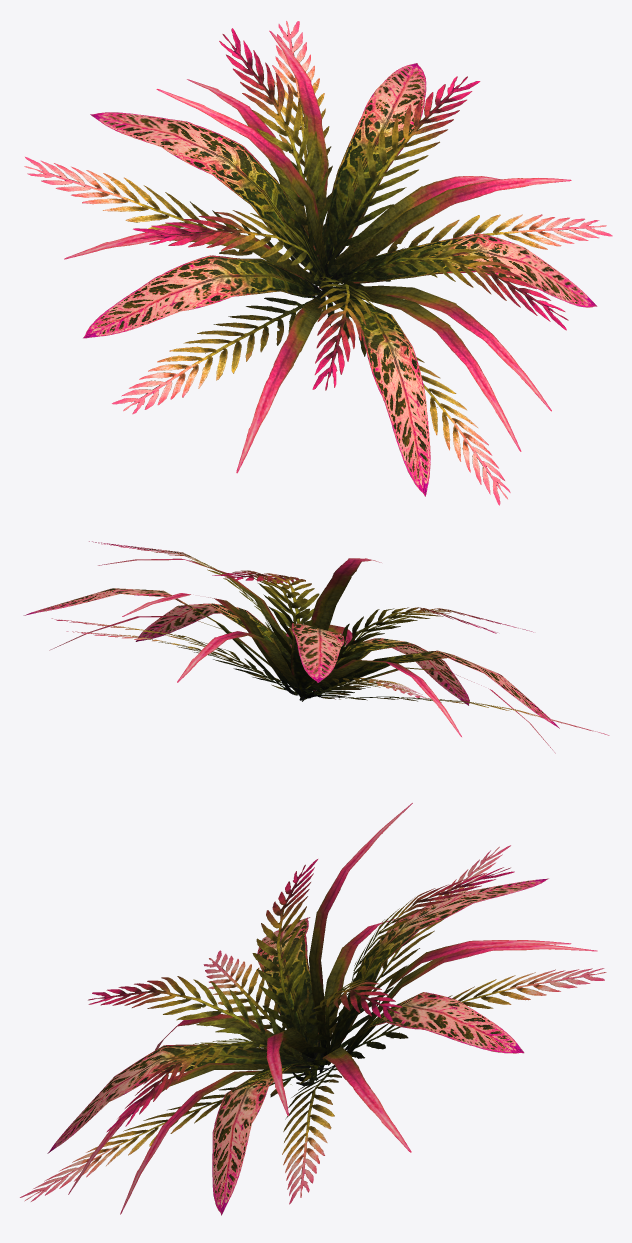
The model's file is 1_ZhiWu_GuanMu01.FBX.
3 views of the same model, one above another, from view 1: azimuth 30°, elevation 25°; view 2: azimuth 150°, elevation 25°; view 3: azimuth 270°, elevation 25° (orthographic). The views are drawn at different scales.
Parts seen in each view (by area): view 1: DrawCall_0468; view 2: DrawCall_0468; view 3: DrawCall_0468.
Part boxes in pixels (x1=…): DrawCall_0468: x1=24, y1=21, x2=612, y2=505; DrawCall_0468: x1=23, y1=541, x2=609, y2=753; DrawCall_0468: x1=20, y1=803, x2=606, y2=1215.
Size of the model in its own units: 0.4714 by 0.2646 by 0.4401.
